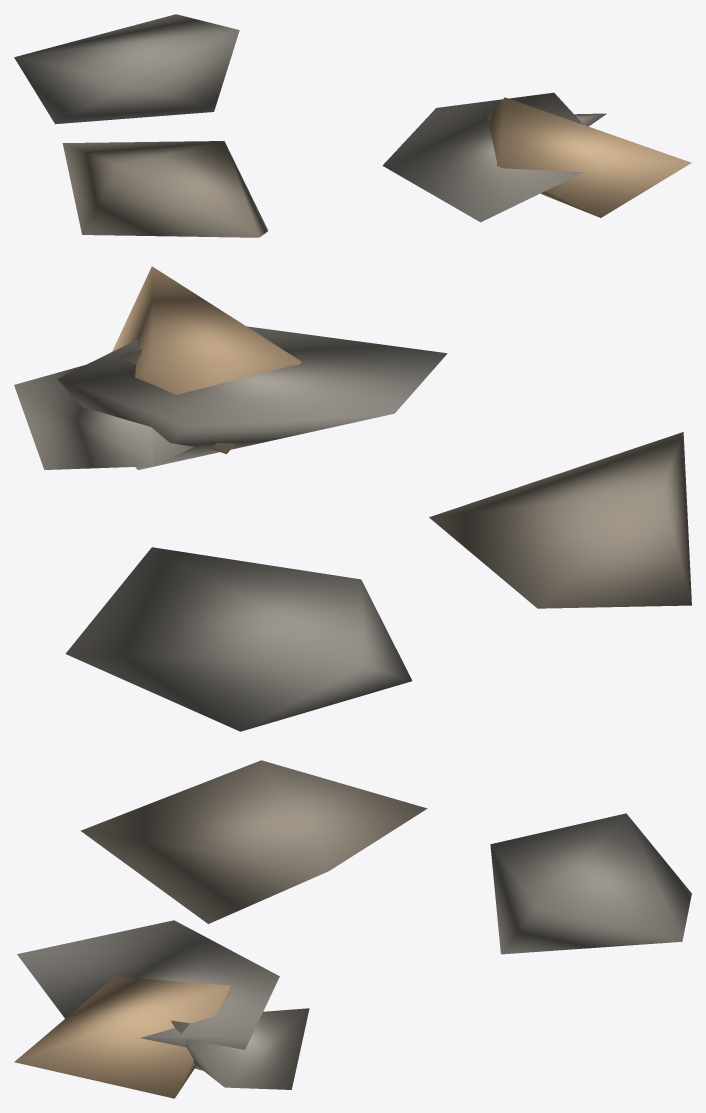
Rendered from shore_gc_pebbles_a_lod2.glb.
3 views of the same model, one above another, from view 1: azimuth 30°, elevation 25°; view 2: azimuth 150°, elevation 25°; view 3: azimuth 270°, elevation 25° (orthographic). The views are drawn at different scales.
Parts seen in each view (by area): view 1: shore_gc_pebbles_a.001; view 2: shore_gc_pebbles_a.001; view 3: shore_gc_pebbles_a.001.
Boxes of the visible parts, <box> form: shore_gc_pebbles_a.001: <box>14,14,691,237</box>; shore_gc_pebbles_a.001: <box>14,266,691,731</box>; shore_gc_pebbles_a.001: <box>14,760,691,1098</box>.
Bounding box in the file's own units: 1.9 × 0.3172 × 1.91.
